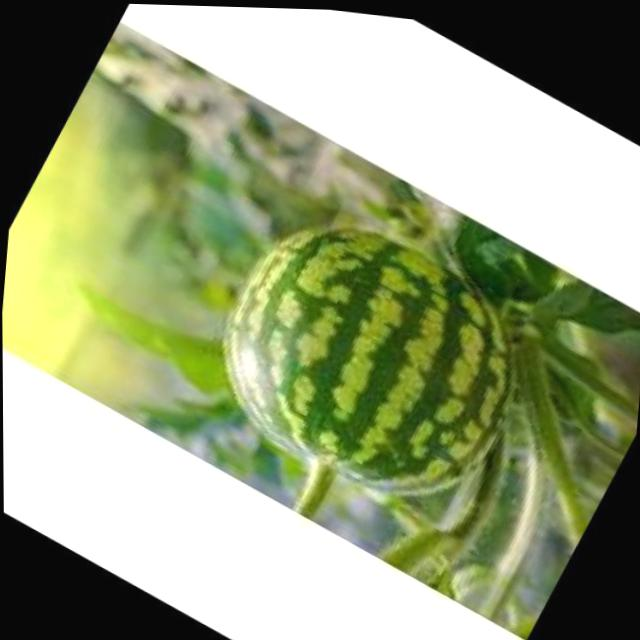watermelon: (212, 215, 522, 502)
